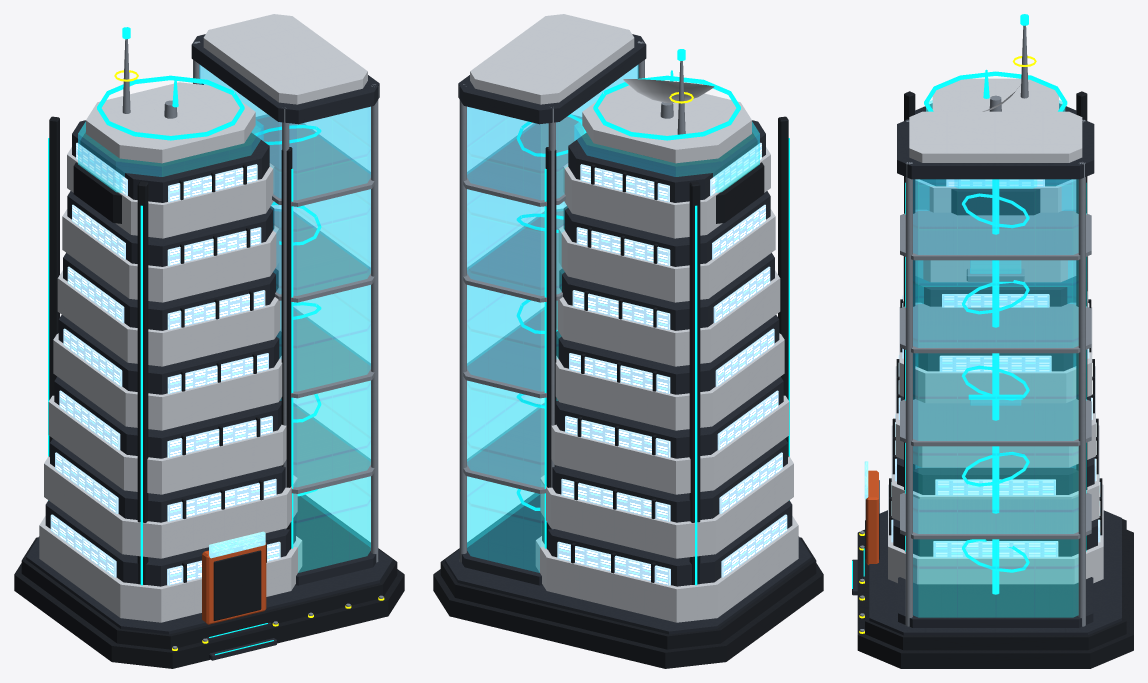
File: bldg_11_winner.glb
The picture shows the model from 3 angles, left to right: view 1: azimuth 30°, elevation 25°; view 2: azimuth 150°, elevation 25°; view 3: azimuth 270°, elevation 25°; orthographic projection. The views are drawn at different scales.
Parts seen in each view (by area): view 1: Bldg11_C02_aero_white, Bldg11_C02_glass_cyan, Bldg11_C02_carbon_slate, Bldg11_C02_gunmetal, Bldg11_C02_steel_machined, Bldg11_C02_window_lit, Bldg11_C02_led_cyan, Bldg11_C02_accent_orange, Bldg11_C02_marquee; view 2: Bldg11_C02_aero_white, Bldg11_C02_carbon_slate, Bldg11_C02_glass_cyan, Bldg11_C02_gunmetal, Bldg11_C02_steel_machined, Bldg11_C02_window_lit, Bldg11_C02_led_cyan; view 3: Bldg11_C02_glass_cyan, Bldg11_C02_steel_machined, Bldg11_C02_aero_white, Bldg11_C02_carbon_slate, Bldg11_C02_gunmetal, Bldg11_C02_window_lit, Bldg11_C02_led_cyan, Bldg11_C02_accent_orange.
Boxes of the visible parts, x1=… form: Bldg11_C02_aero_white: x1=39, y1=14, x2=367, y2=622; Bldg11_C02_glass_cyan: x1=78, y1=64, x2=370, y2=572; Bldg11_C02_carbon_slate: x1=26, y1=34, x2=392, y2=660; Bldg11_C02_gunmetal: x1=14, y1=83, x2=404, y2=668; Bldg11_C02_steel_machined: x1=122, y1=39, x2=383, y2=649; Bldg11_C02_window_lit: x1=50, y1=142, x2=280, y2=585; Bldg11_C02_led_cyan: x1=48, y1=27, x2=321, y2=655; Bldg11_C02_accent_orange: x1=202, y1=542, x2=266, y2=624; Bldg11_C02_marquee: x1=209, y1=531, x2=265, y2=558; Bldg11_C02_aero_white: x1=470, y1=14, x2=798, y2=622; Bldg11_C02_carbon_slate: x1=445, y1=34, x2=811, y2=634; Bldg11_C02_glass_cyan: x1=467, y1=64, x2=759, y2=572; Bldg11_C02_gunmetal: x1=433, y1=116, x2=823, y2=668; Bldg11_C02_steel_machined: x1=459, y1=41, x2=685, y2=562; Bldg11_C02_window_lit: x1=557, y1=142, x2=787, y2=585; Bldg11_C02_led_cyan: x1=516, y1=49, x2=789, y2=585; Bldg11_C02_glass_cyan: x1=913, y1=100, x2=1078, y2=617; Bldg11_C02_steel_machined: x1=860, y1=25, x2=1091, y2=631; Bldg11_C02_aero_white: x1=888, y1=78, x2=1103, y2=584; Bldg11_C02_carbon_slate: x1=852, y1=103, x2=1121, y2=635; Bldg11_C02_gunmetal: x1=857, y1=91, x2=1133, y2=668; Bldg11_C02_window_lit: x1=891, y1=179, x2=1100, y2=557; Bldg11_C02_led_cyan: x1=852, y1=14, x2=1086, y2=594; Bldg11_C02_accent_orange: x1=866, y1=470, x2=878, y2=565.
Bounding box in the file's own units: 12.5 × 23.12 × 10.71.
10 materials, 10 textured.
